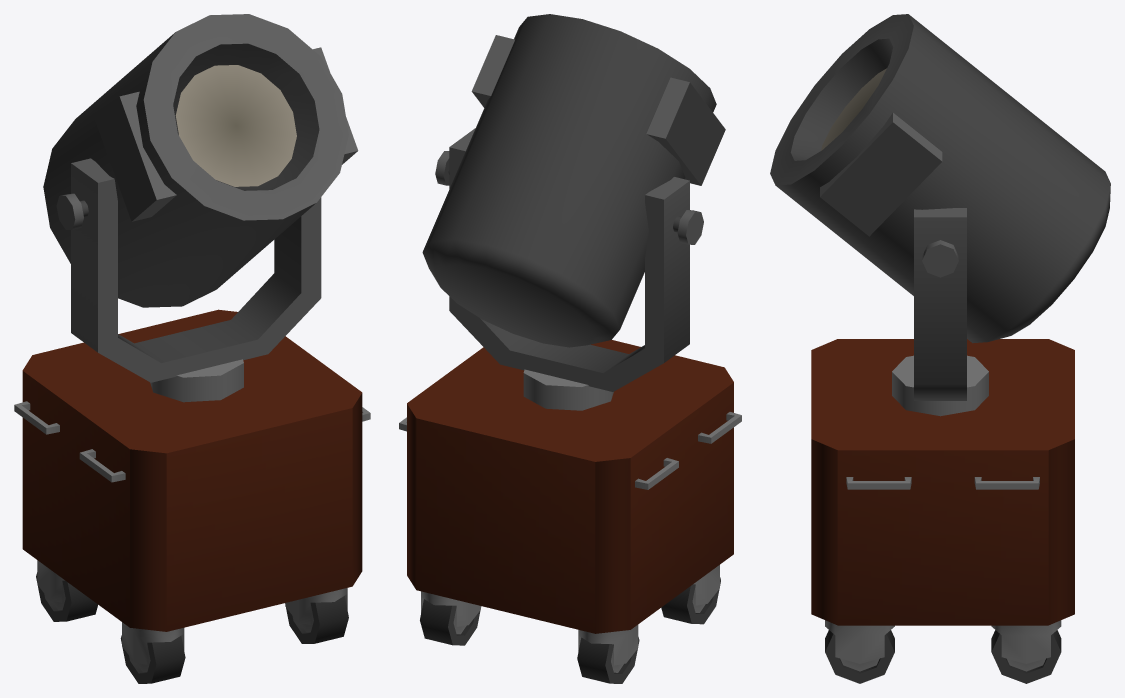
File: StadiumSpotlight_SmallWagon.fbx
3 renders of one model, left to right at view 1: azimuth 30°, elevation 25°; view 2: azimuth 150°, elevation 25°; view 3: azimuth 270°, elevation 25°, orthographic. The views are drawn at different scales.
Parts seen in each view (by area): view 1: StadiumSpotlight_SmallWagon; view 2: StadiumSpotlight_SmallWagon; view 3: StadiumSpotlight_SmallWagon.
Boxes of the visible parts, x1=… form: StadiumSpotlight_SmallWagon: x1=14, y1=14, x2=370, y2=683; StadiumSpotlight_SmallWagon: x1=399, y1=14, x2=741, y2=683; StadiumSpotlight_SmallWagon: x1=770, y1=14, x2=1110, y2=683.
Bounding box in the file's own units: 59.97 × 137 × 68.86.
